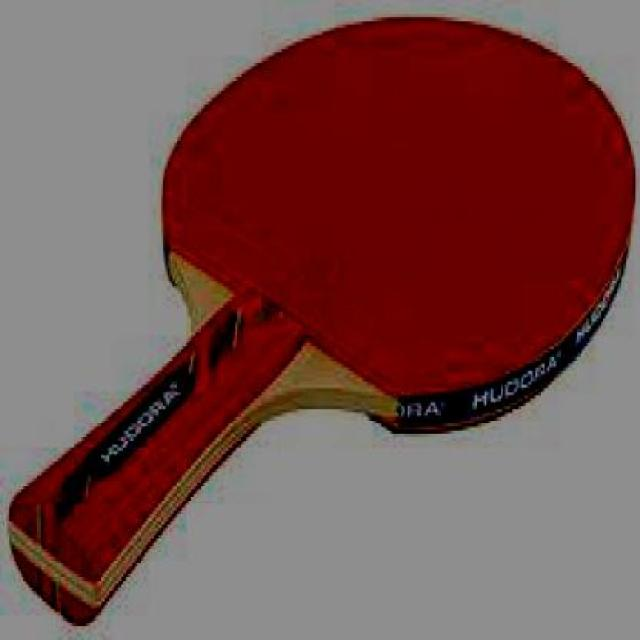table_tennis_racket: (156, 14, 638, 441)
